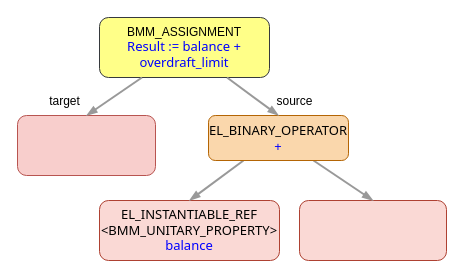
Some shapes in this 464 by 278 pixel diagram are drawn without their labels. The shapes that lost their labels are listed below. From the top down, each one's box as (x1, y1, x2, y2) in pixels, then its label:
(16, 114, 156, 176): EL_INSTANTIABLE_REF <BMM_RESULT> Result
(298, 200, 446, 260): EL_INSTANTIABLE_REF <BMM_CONSTANT> overdraft_limit
